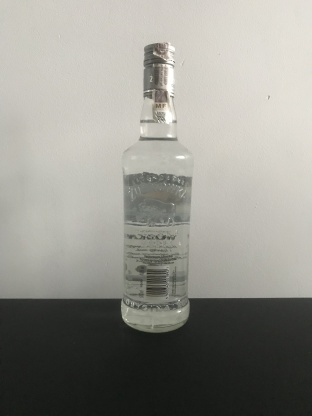nakretka: (141, 40, 177, 98)
